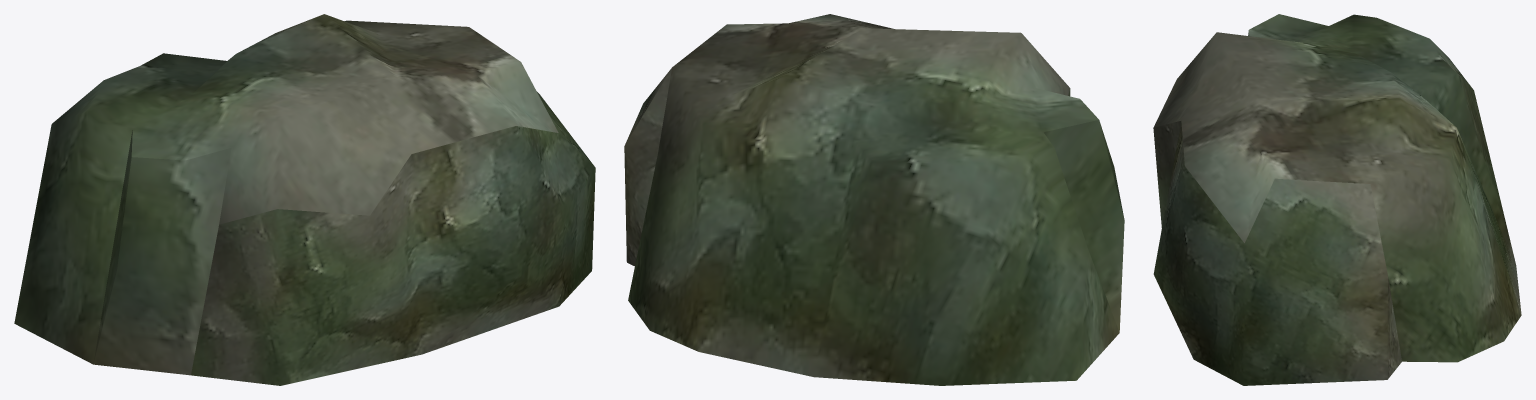
The picture shows the model from 3 angles, left to right: view 1: azimuth 30°, elevation 25°; view 2: azimuth 150°, elevation 25°; view 3: azimuth 270°, elevation 25°; orthographic projection. The views are drawn at different scales.
Parts seen in each view (by area): view 1: polySurface2458; view 2: polySurface2458; view 3: polySurface2458.
Boxes of the visible parts, left/top/right/bottom form: polySurface2458: left=14, top=14, right=595, bottom=385; polySurface2458: left=624, top=14, right=1124, bottom=385; polySurface2458: left=1153, top=14, right=1521, bottom=385.
Size of the model in its own units: 8.73 by 4.11 by 6.41.
